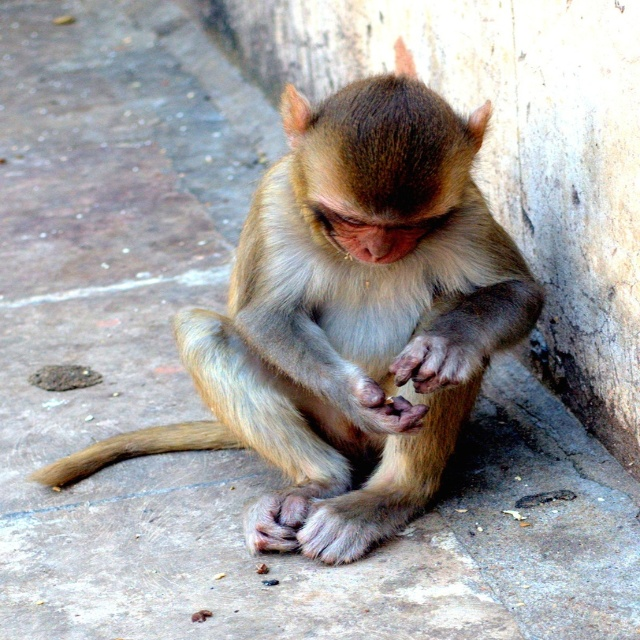Monkey: (29, 74, 547, 565)
